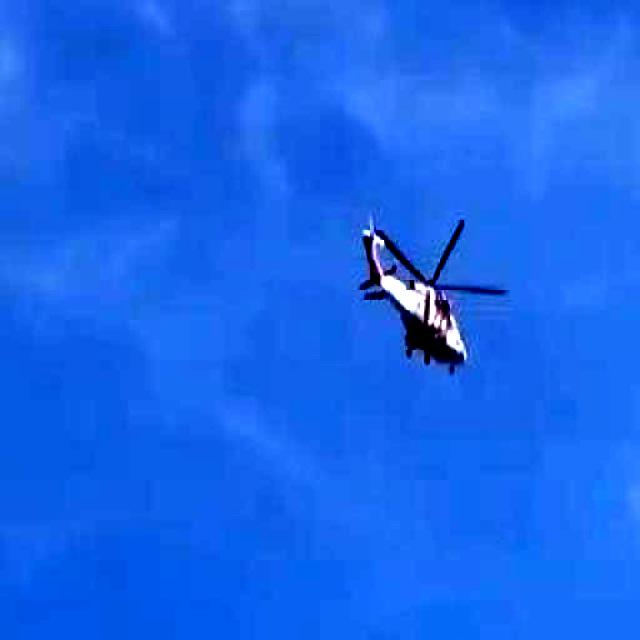drone: (286, 115, 584, 438)
